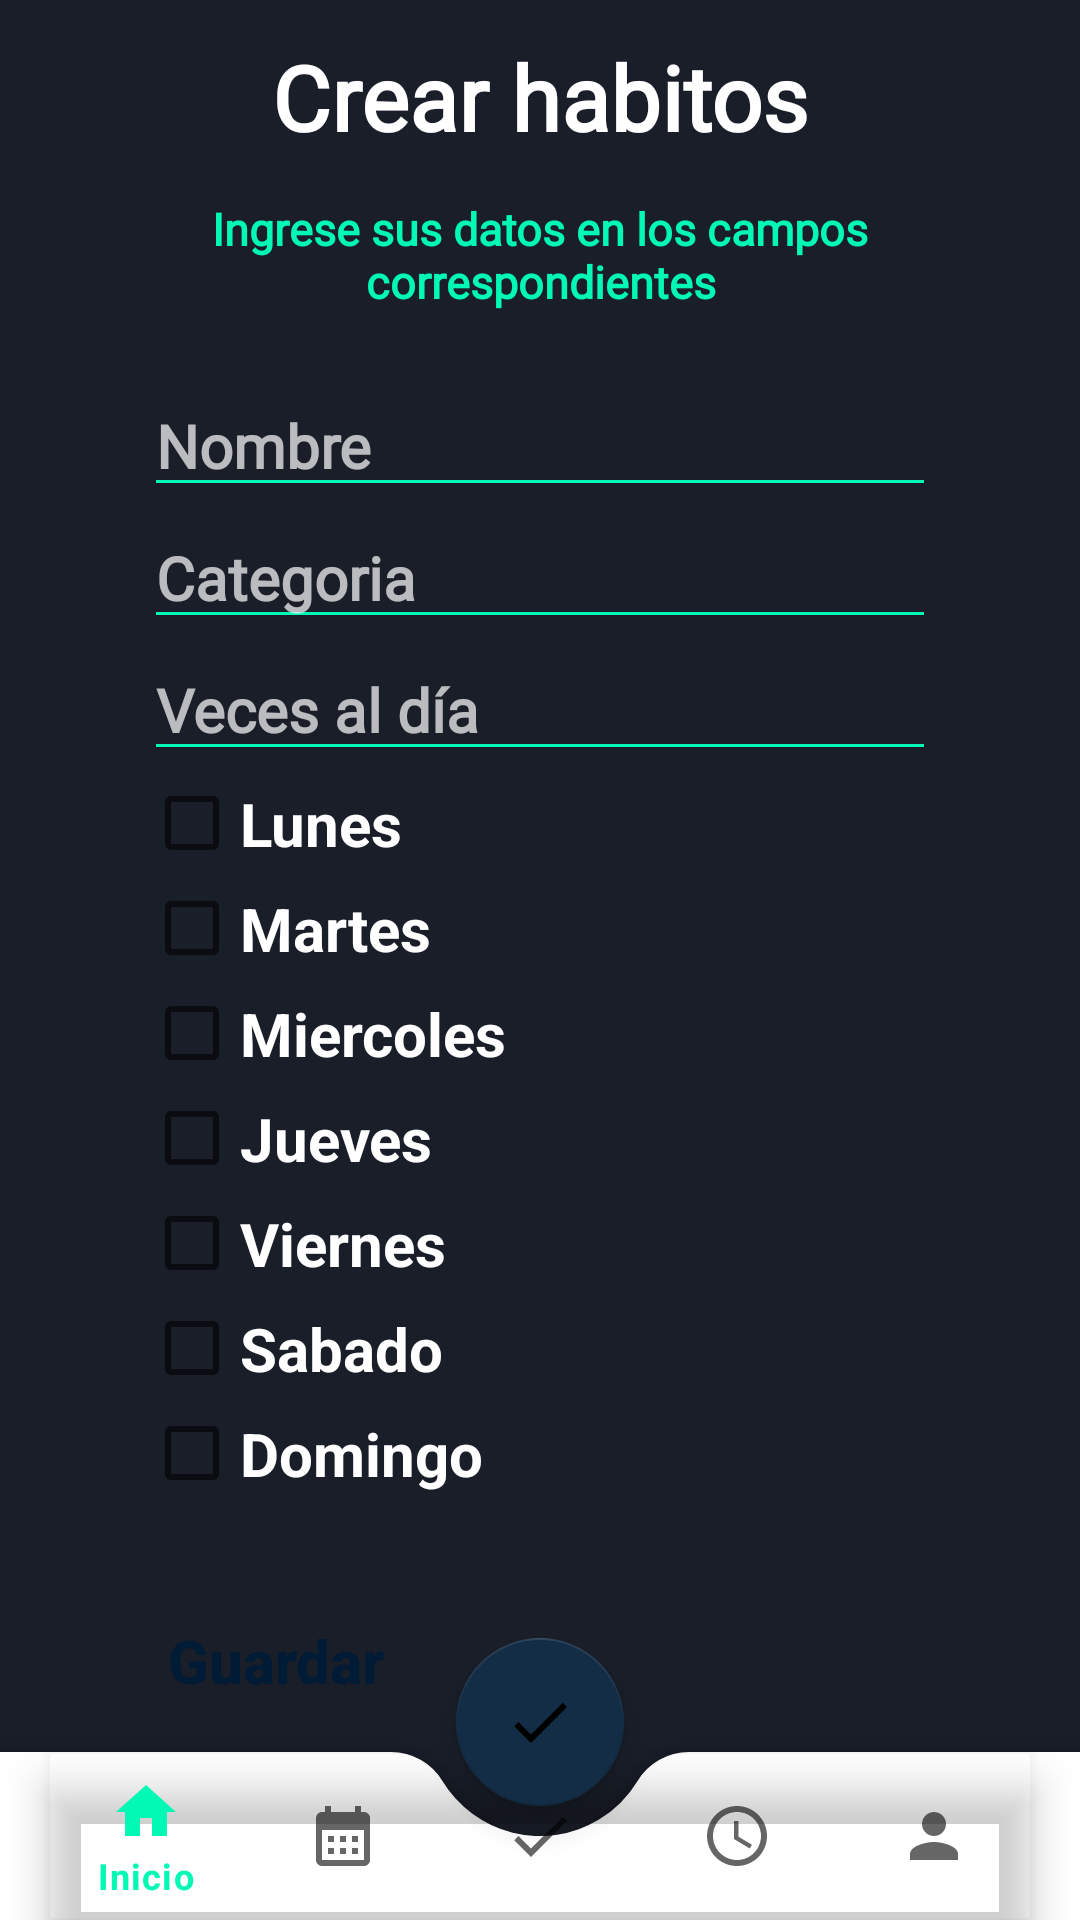

Point at icon controls on the screen. Image size 1080×1920, points as [x,y].
check: [540,1752]
